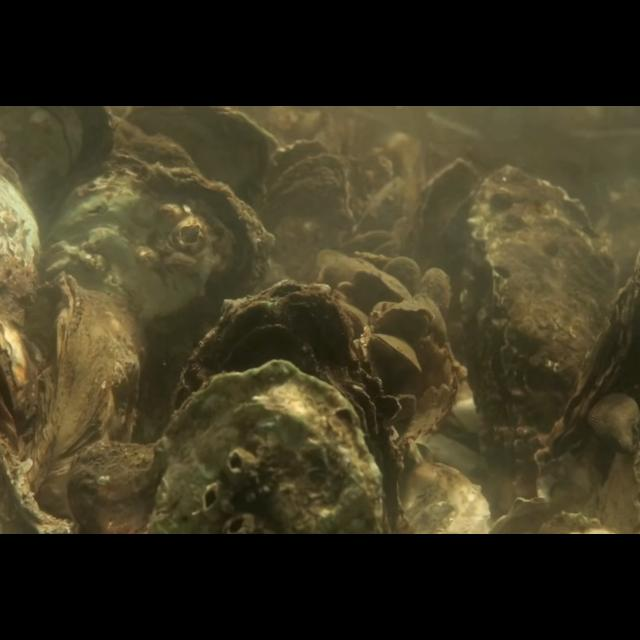Oyster-Closed: (45, 162, 274, 438), (172, 278, 402, 534), (144, 359, 383, 535), (28, 270, 142, 534), (124, 106, 282, 206), (0, 106, 116, 232), (66, 437, 156, 535), (0, 155, 42, 322), (396, 461, 490, 535), (353, 267, 413, 303), (314, 247, 366, 285), (382, 255, 422, 303), (377, 306, 435, 338), (418, 268, 452, 318)
Oyster-Open: (456, 164, 614, 460), (532, 246, 640, 502), (254, 139, 350, 281), (402, 156, 482, 312), (0, 321, 42, 454), (489, 495, 605, 535), (368, 332, 422, 374)
